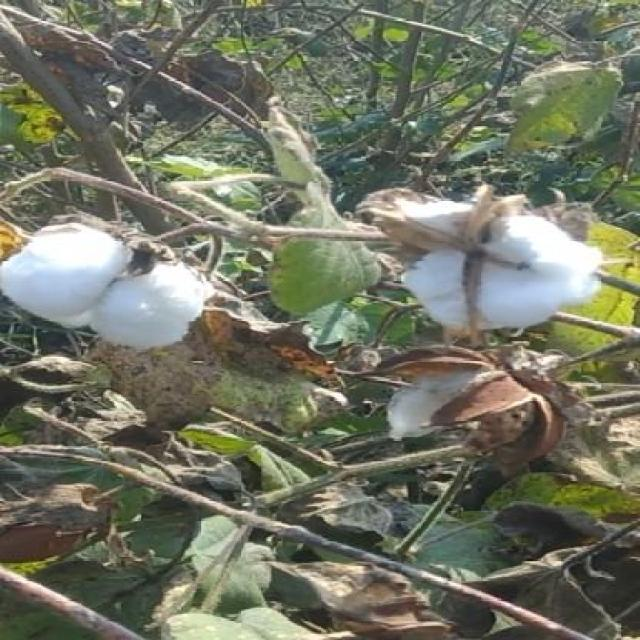cotton_ready: (353, 169, 619, 354), (31, 205, 215, 362)
